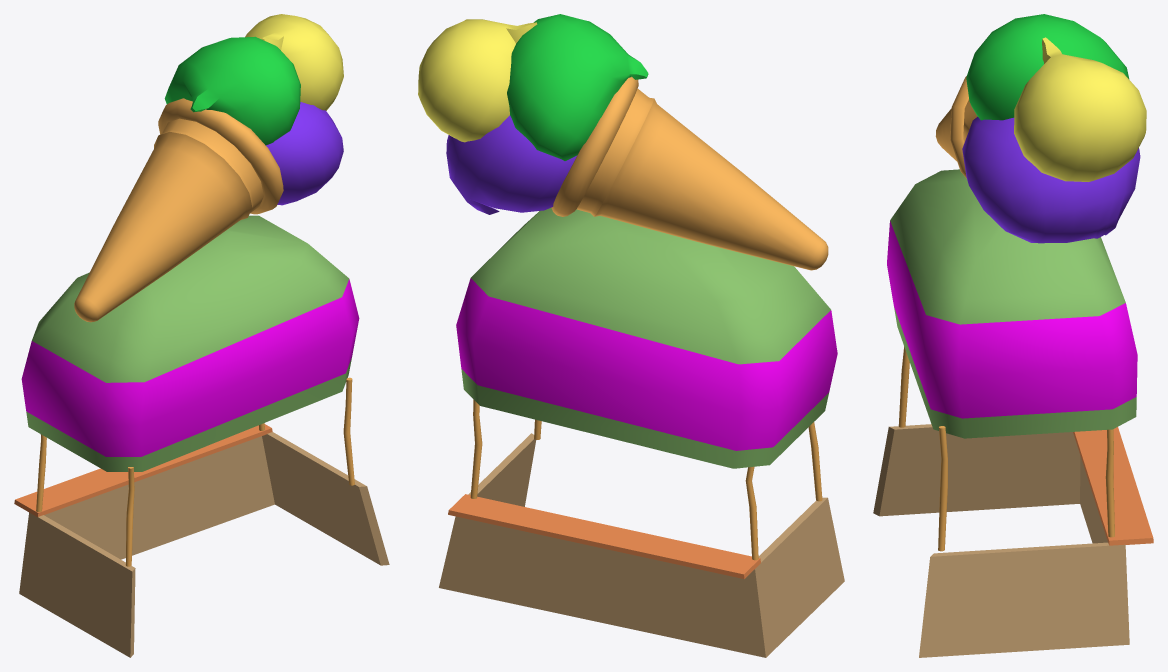
File: ice-creamStand.fbx
3 renders of one model, left to right at view 1: azimuth 30°, elevation 25°; view 2: azimuth 150°, elevation 25°; view 3: azimuth 270°, elevation 25°, orthographic. The views are drawn at different scales.
Visible parts, largest first — view 1: Ice-cream_Stand; view 2: Ice-cream_Stand; view 3: Ice-cream_Stand.
Part boxes in pixels (bbox=[...]): Ice-cream_Stand: bbox=[14, 14, 389, 657]; Ice-cream_Stand: bbox=[418, 14, 844, 657]; Ice-cream_Stand: bbox=[873, 14, 1153, 657].
Bounding box in the file's own units: 715 × 1113 × 474.
